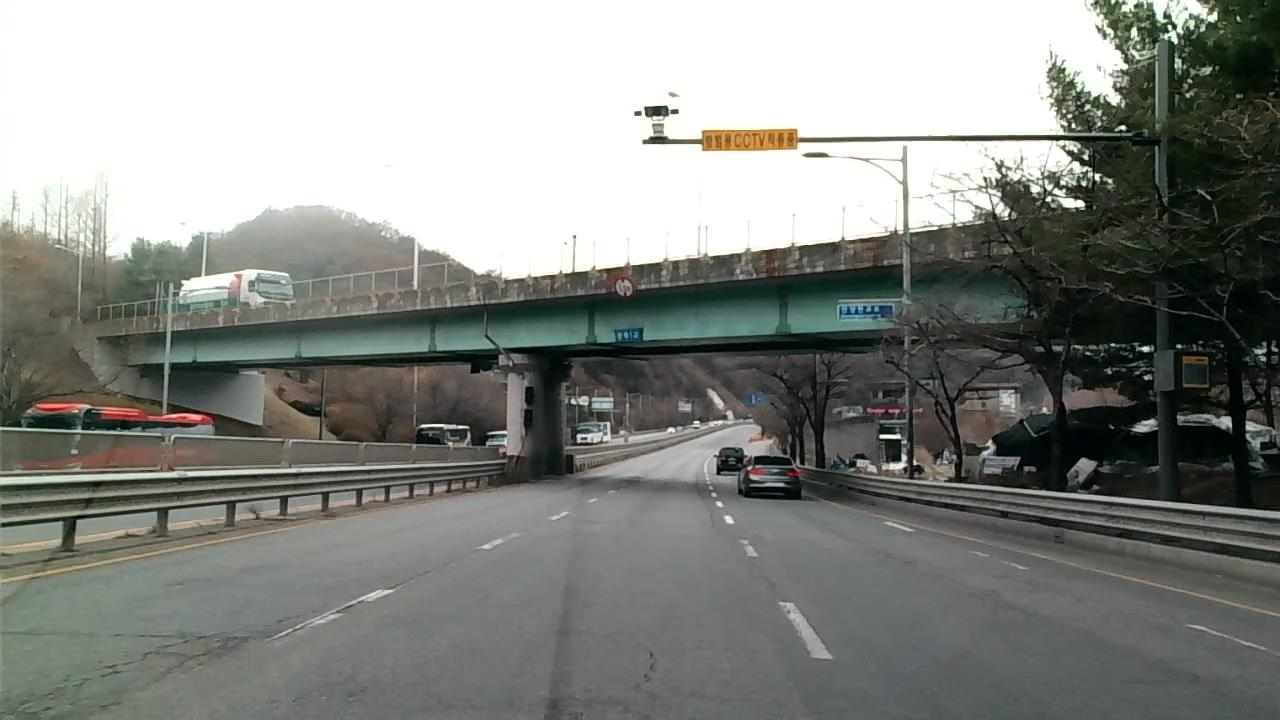banner: (70, 631, 207, 682), (1, 622, 222, 641), (270, 599, 363, 641), (634, 637, 675, 718), (158, 638, 226, 682)
